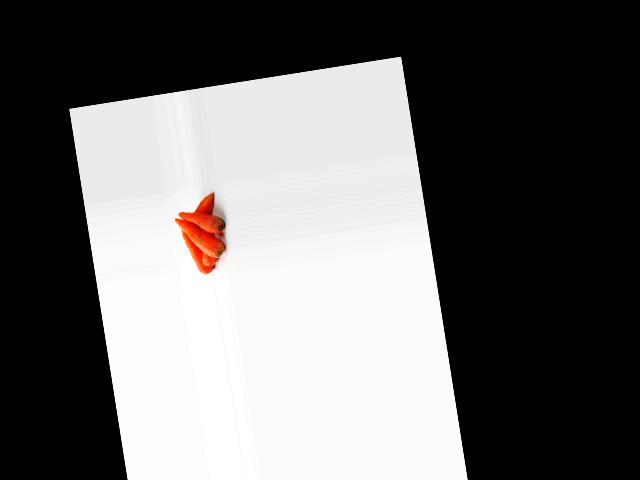carrot: (179, 204, 226, 239)
